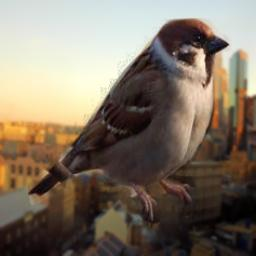Sparrow: (28, 15, 233, 230)
